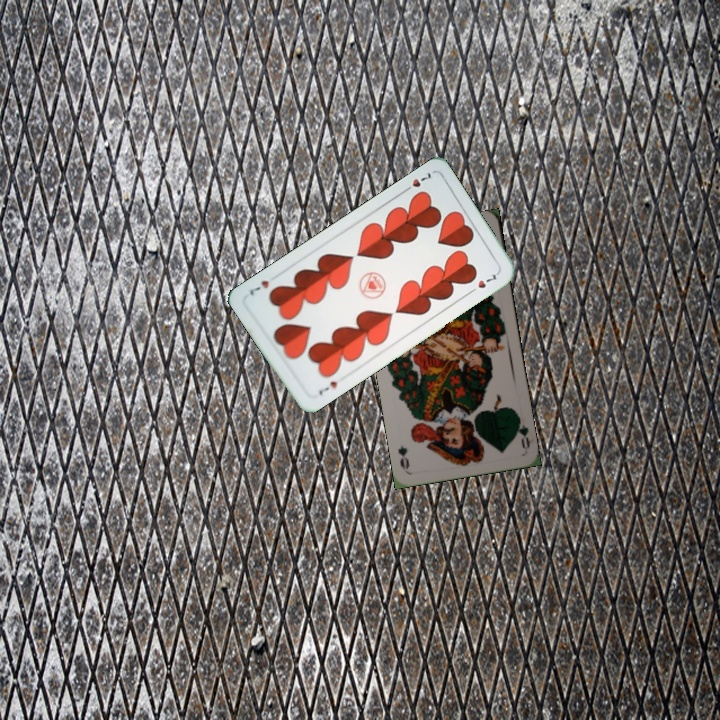GO: (511, 411, 532, 451)
H7: (399, 168, 434, 195), (314, 377, 339, 398)
